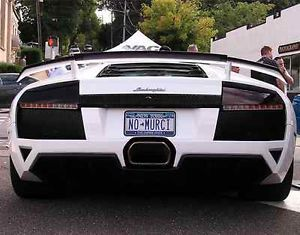number_plates: (125, 112, 176, 135)
